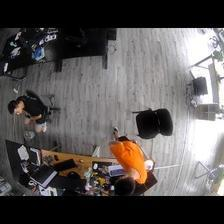normal: (105, 124, 150, 195), (5, 86, 53, 137)
